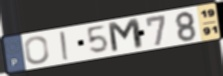5: (84, 24, 110, 55)
7: (144, 13, 169, 47)
8: (174, 9, 198, 43)
I: (58, 30, 71, 62)
M: (106, 17, 146, 55)
O: (23, 35, 51, 66)
